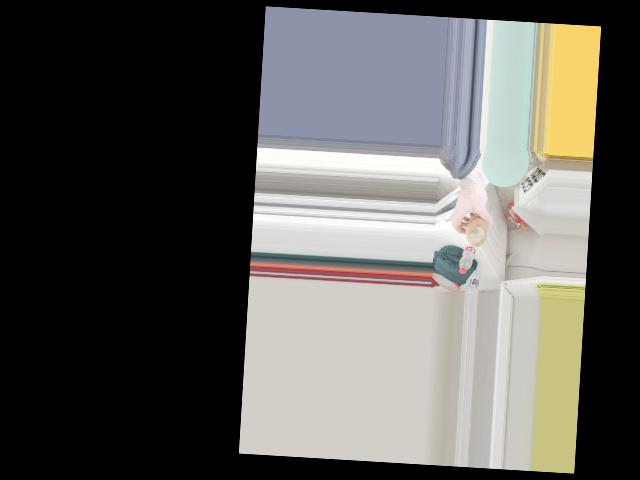sweet_potato: (459, 208, 491, 246)
